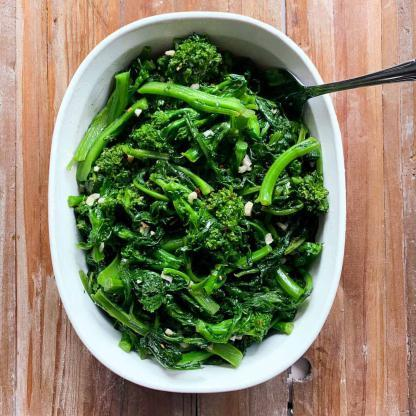broccoli: (64, 32, 332, 370)
